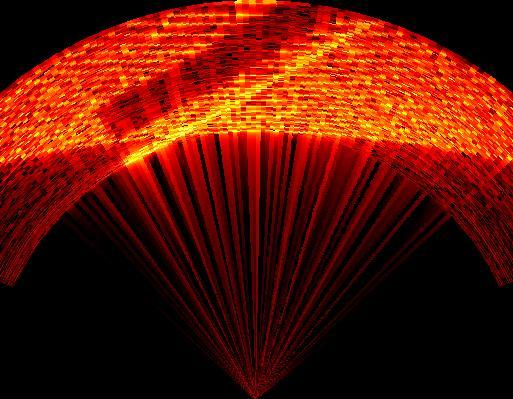pipe: (93, 2, 379, 167)
